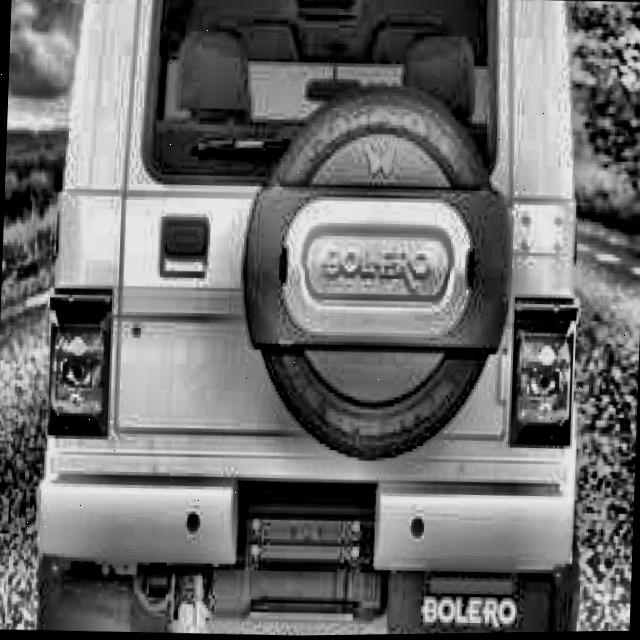light_vehicle: (33, 0, 597, 640)
